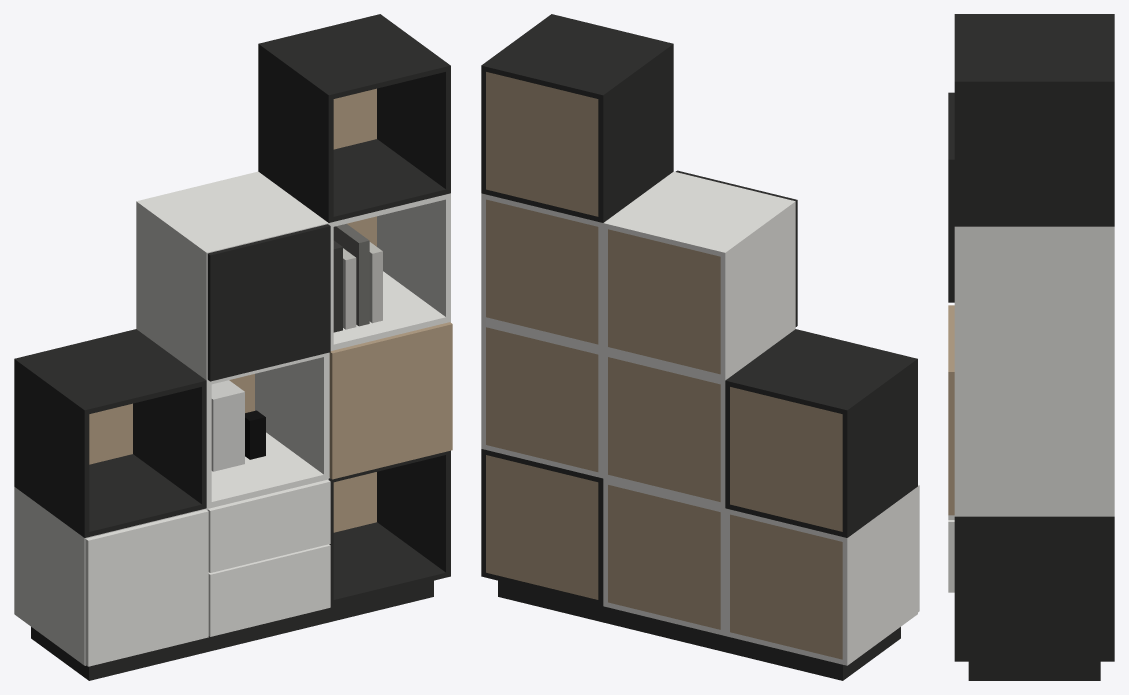
File: hero.glb
The picture shows the model from 3 angles, left to right: view 1: azimuth 30°, elevation 25°; view 2: azimuth 150°, elevation 25°; view 3: azimuth 270°, elevation 25°; orthographic projection. The views are drawn at different scales.
Visible parts, largest first — view 1: hero; view 2: hero; view 3: hero.
Part boxes in pixels (<box>): hero: <box>14,14,452,680</box>; hero: <box>481,14,919,680</box>; hero: <box>948,14,1114,680</box>.
Size of the model in its own units: 1.38 by 1.92 by 0.478.
